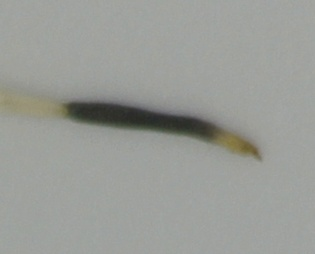เมล็ดงอกแตก: (3, 89, 265, 164)
